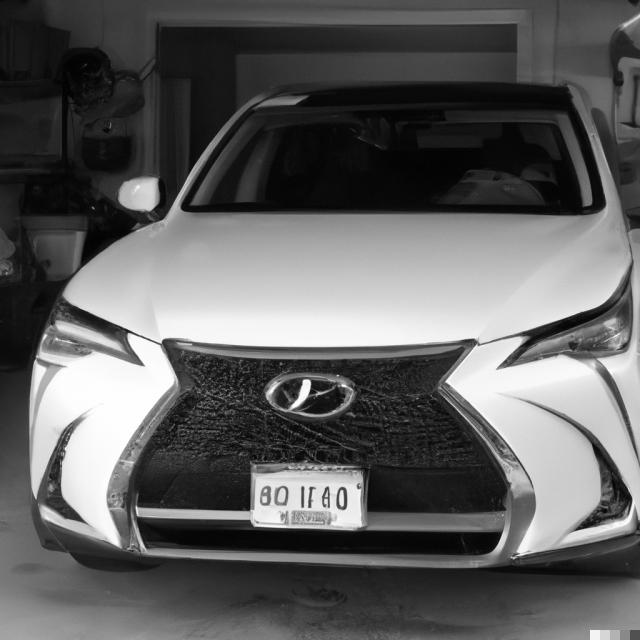LicensePlate: (251, 464, 368, 532)
